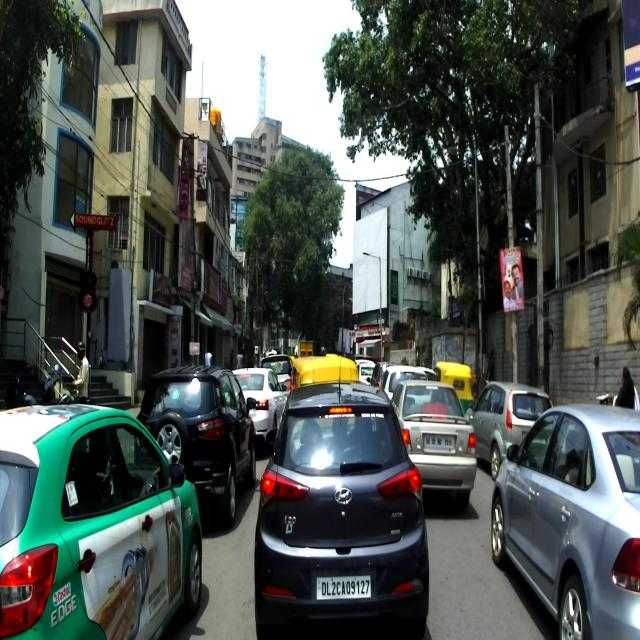Car_Ford: (0, 402, 203, 640), (136, 366, 256, 527)
Car_Hyundai: (254, 342, 429, 639), (465, 381, 554, 480)
Car_Maruti-Suzuki: (388, 379, 477, 509)
Car_Skoda: (230, 367, 287, 455)
Car_Volkswagen: (491, 405, 640, 639)
